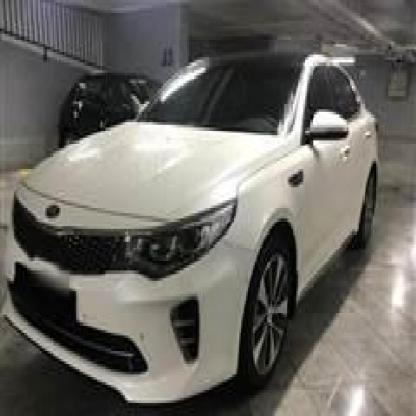Car: (0, 71, 376, 400), (48, 65, 164, 161)
